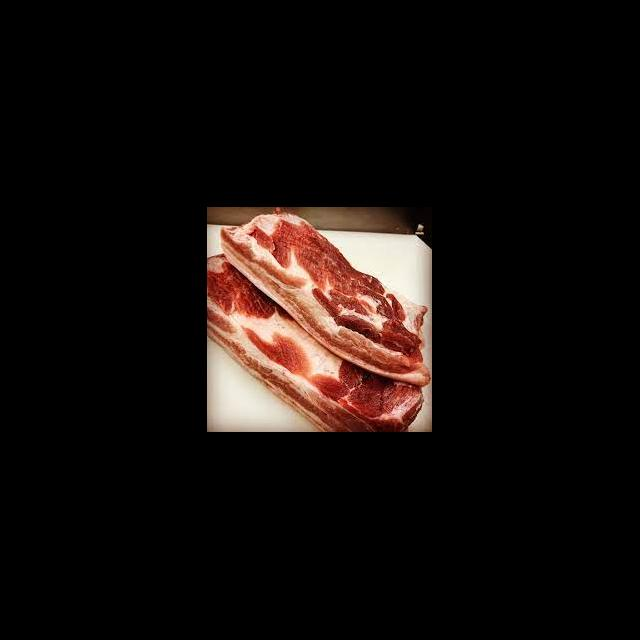pork: (208, 212, 427, 432)
